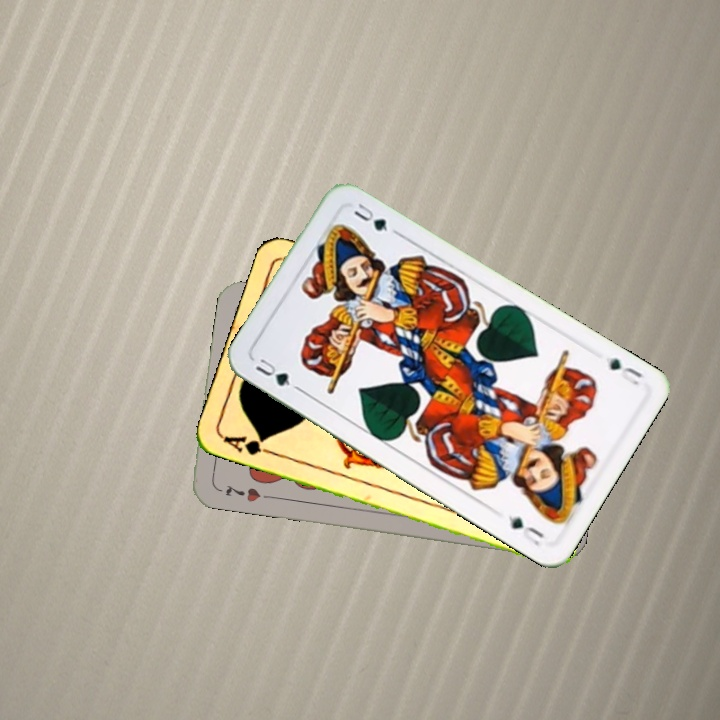GA: (219, 431, 277, 458)
GU: (251, 354, 302, 393), (605, 353, 645, 388)
H7: (221, 481, 273, 505)
